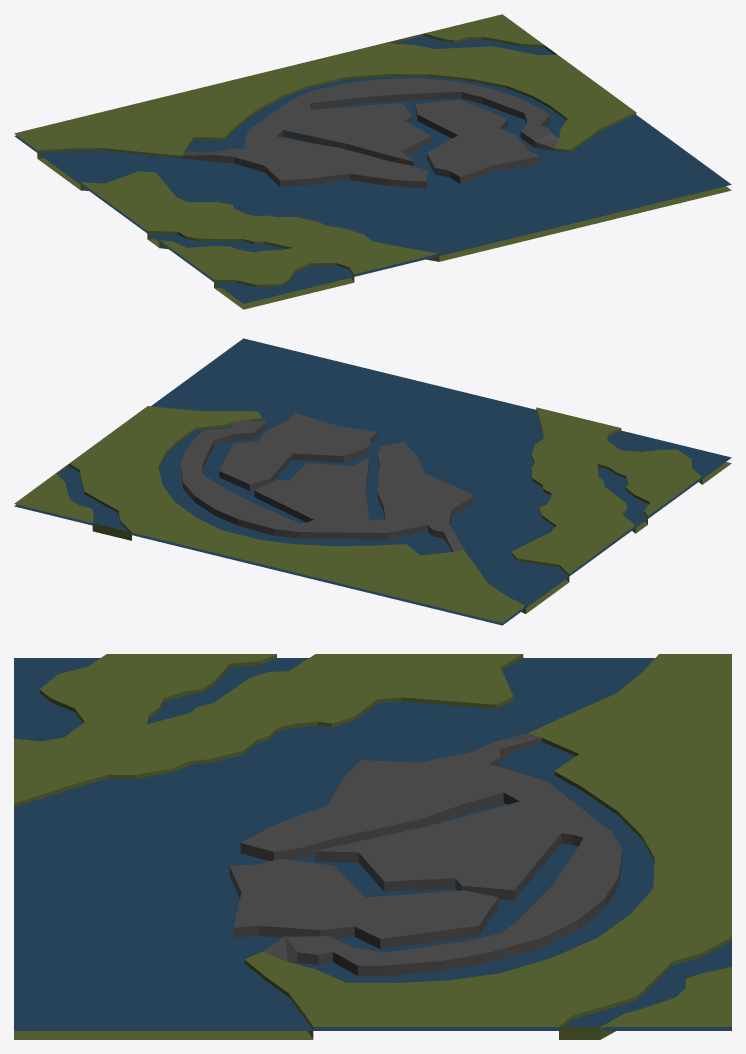
File: GameMap2.0.dae
3 renders of one model, top to bottom at view 1: azimuth 30°, elevation 25°; view 2: azimuth 150°, elevation 25°; view 3: azimuth 270°, elevation 25°, orthographic. The views are drawn at different scales.
Visible parts, largest first — view 1: Plane, Water_Plain; view 2: Plane, Water_Plain; view 3: Plane, Water_Plain.
Boxes of the visible parts, x1=… form: Plane: x1=14, y1=14, x2=731, y2=309; Water_Plain: x1=14, y1=36, x2=731, y2=303; Plane: x1=14, y1=406, x2=731, y2=622; Water_Plain: x1=14, y1=338, x2=731, y2=625; Plane: x1=14, y1=654, x2=731, y2=1039; Water_Plain: x1=14, y1=658, x2=731, y2=1030.
Size of the model in its own units: 4.99 by 4.06 by 0.1205.
